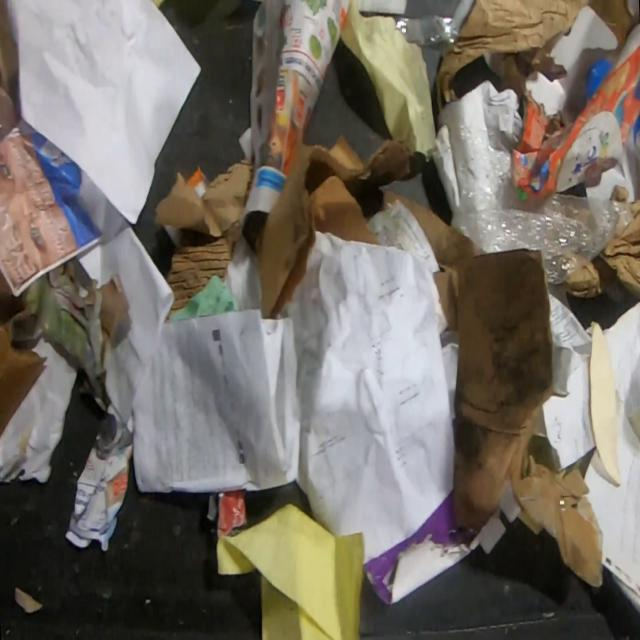cardboard: (381, 189, 604, 590), (254, 133, 416, 320), (512, 4, 640, 200), (15, 256, 132, 413), (153, 157, 255, 315), (0, 268, 48, 441)
soft_plastic: (450, 122, 634, 286), (392, 14, 462, 46)
